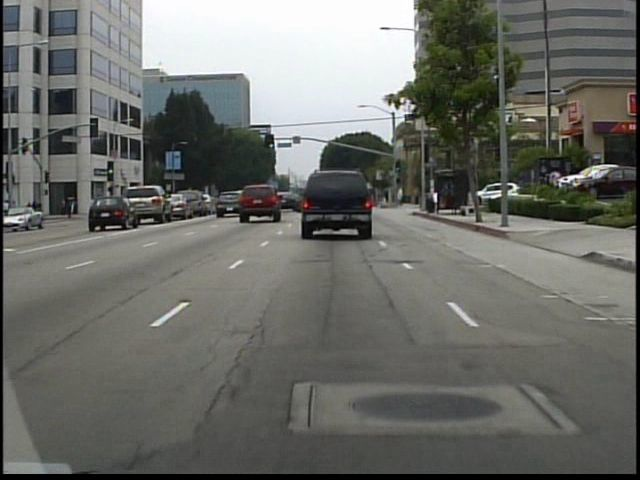person: (2, 192, 18, 226), (396, 184, 408, 208), (412, 181, 423, 207), (383, 185, 390, 204)
